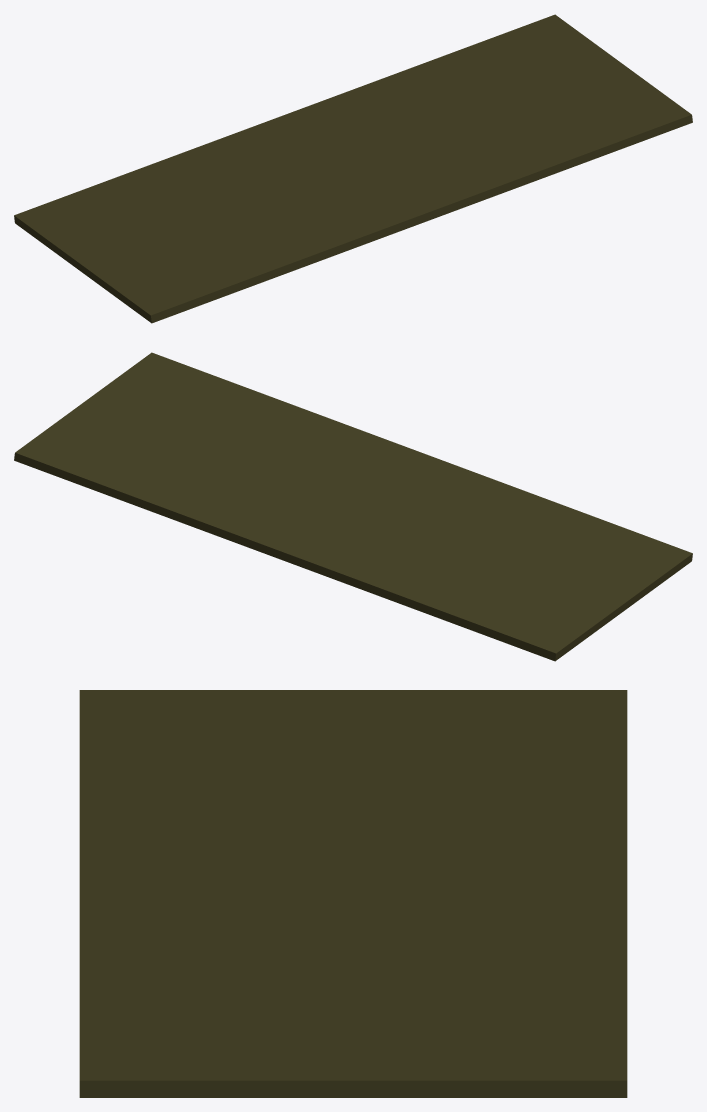
File: debris14.fbx
3 views of the same model, one above another, from view 1: azimuth 30°, elevation 25°; view 2: azimuth 150°, elevation 25°; view 3: azimuth 270°, elevation 25° (orthographic). The views are drawn at different scales.
Parts seen in each view (by area): view 1: Box05; view 2: Box05; view 3: Box05.
Boxes of the visible parts, x1,y1,x2,y2 form: Box05: (14,14,692,323); Box05: (14,352,692,661); Box05: (79,690,627,1097).
Size of the model in its own units: 675 by 91.69 by 295.
